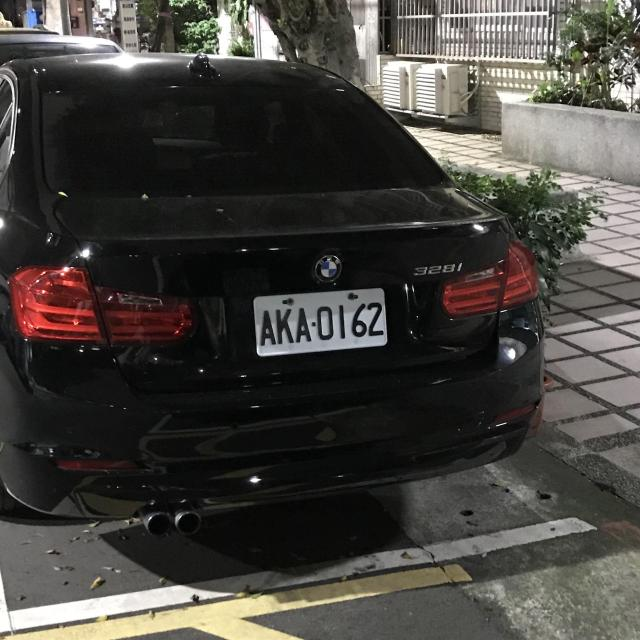W: (245, 279, 397, 363)
